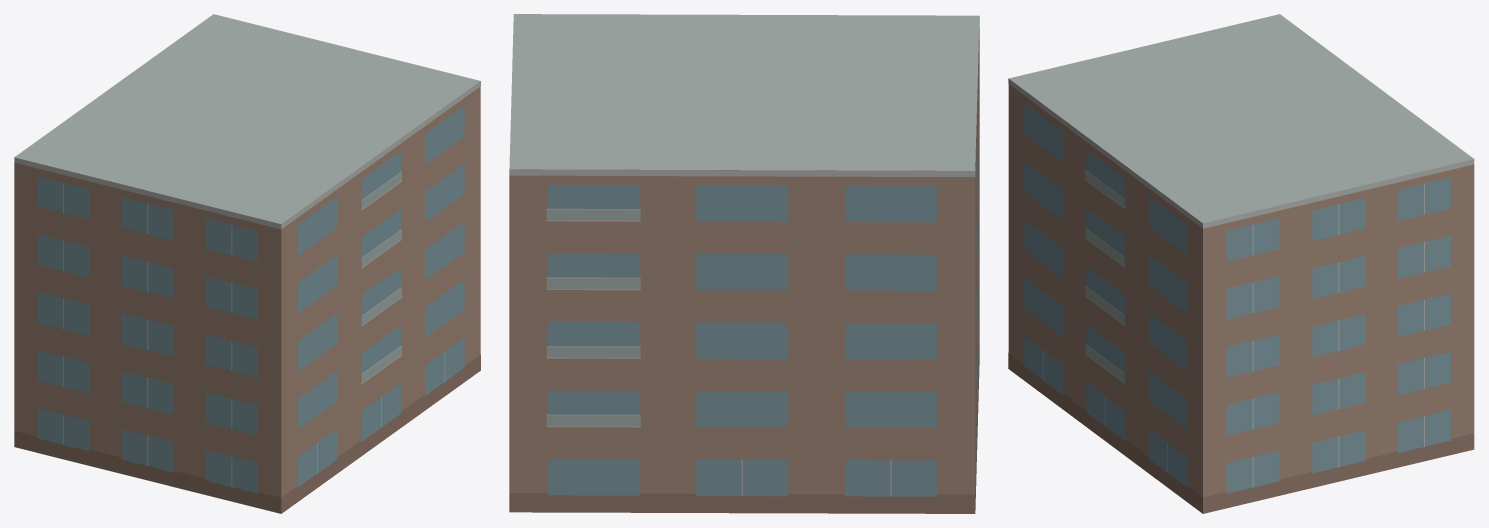
File: survey-upis-32721937.glb
3 renders of one model, left to right at view 1: azimuth 30°, elevation 25°; view 2: azimuth 150°, elevation 25°; view 3: azimuth 270°, elevation 25°, orthographic. The views are drawn at different scales.
Visible parts, largest first — view 1: survey-upis-32721937.tmp; view 2: survey-upis-32721937.tmp; view 3: survey-upis-32721937.tmp.
Boxes of the visible parts, x1,y1,x2,y2 form: survey-upis-32721937.tmp: (14,14,480,513); survey-upis-32721937.tmp: (509,14,979,513); survey-upis-32721937.tmp: (1008,14,1474,513).
Bounding box in the file's own units: 20.74 × 13.4 × 19.49.
